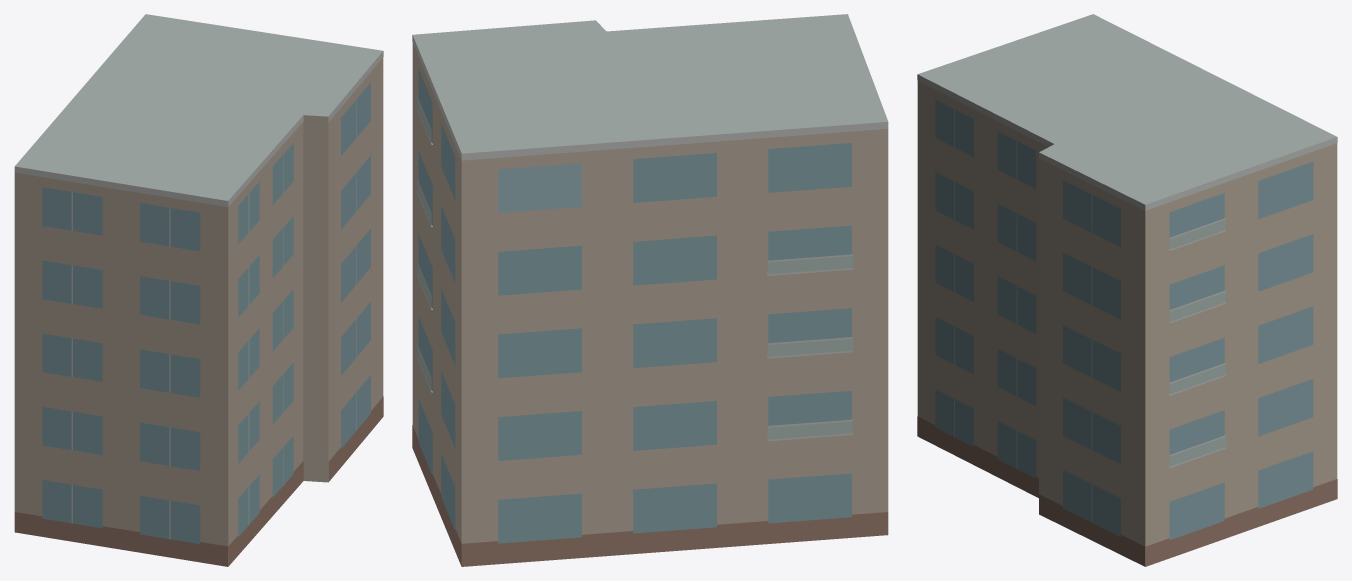
The model's file is survey-upis-32747283.glb.
The picture shows the model from 3 angles, left to right: view 1: azimuth 30°, elevation 25°; view 2: azimuth 150°, elevation 25°; view 3: azimuth 270°, elevation 25°; orthographic projection. The views are drawn at different scales.
Visible parts, largest first — view 1: survey-upis-32747283.tmp; view 2: survey-upis-32747283.tmp; view 3: survey-upis-32747283.tmp.
Boxes of the visible parts, x1=… form: survey-upis-32747283.tmp: x1=14, y1=14, x2=383, y2=566; survey-upis-32747283.tmp: x1=412, y1=14, x2=888, y2=566; survey-upis-32747283.tmp: x1=917, y1=14, x2=1337, y2=566.
Size of the model in its own units: 16.4 by 14.5 by 15.25.
